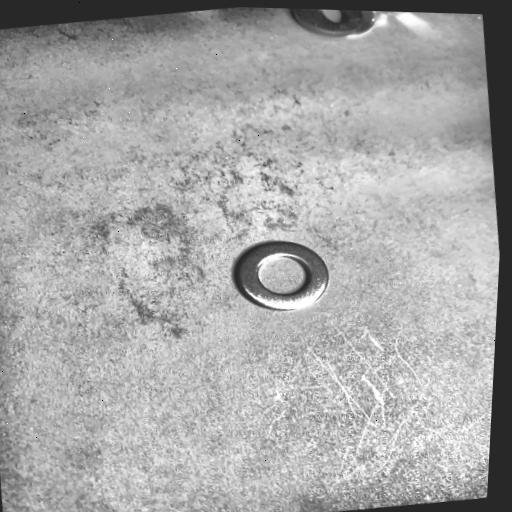Washer: (231, 239, 330, 312), (289, 8, 377, 38)
